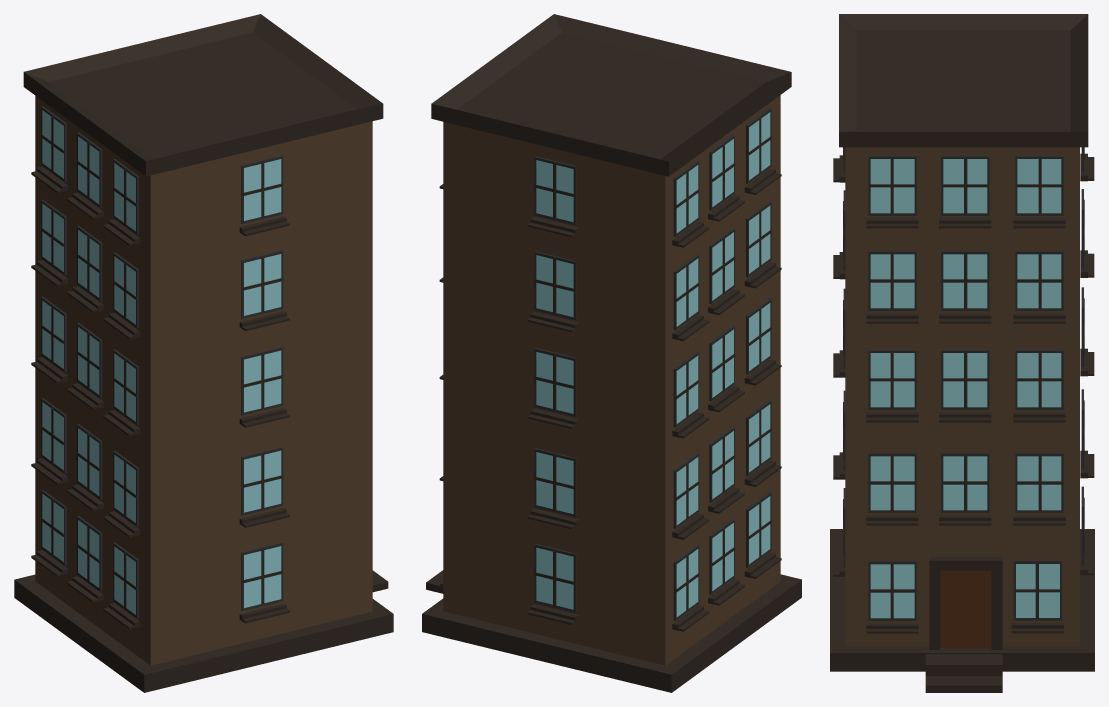
The model's file is 3DMODELS_Enviro_FBXFiles_SuburbianLevel_TallBuilding.fbx.
3 renders of one model, left to right at view 1: azimuth 30°, elevation 25°; view 2: azimuth 150°, elevation 25°; view 3: azimuth 270°, elevation 25°, orthographic.
Parts seen in each view (by area): view 1: pasted__pasted__group31_pasted__pasted__group_pasted__pasted; view 2: pasted__pasted__group31_pasted__pasted__group_pasted__pasted; view 3: pasted__pasted__group31_pasted__pasted__group_pasted__pasted.
Part boxes in pixels (bbox=[...]): pasted__pasted__group31_pasted__pasted__group_pasted__pasted: bbox=[14, 14, 393, 692]; pasted__pasted__group31_pasted__pasted__group_pasted__pasted: bbox=[422, 14, 801, 692]; pasted__pasted__group31_pasted__pasted__group_pasted__pasted: bbox=[830, 14, 1094, 692].
Bounding box in the file's own units: 10.73 × 18.63 × 8.31.
